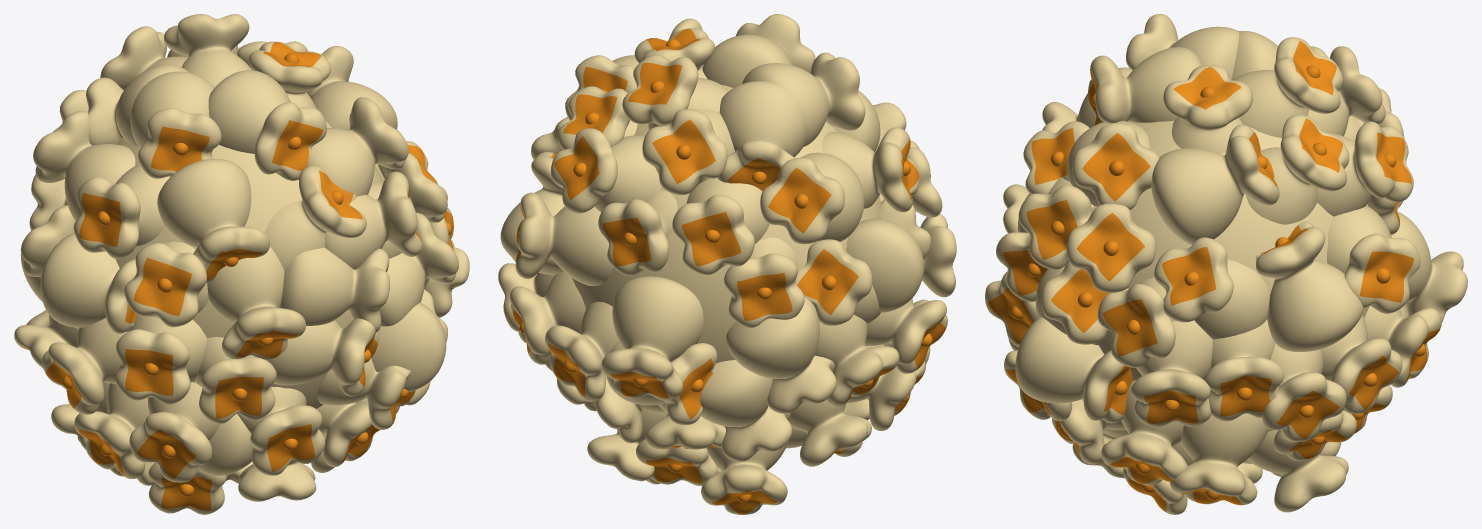
The model's file is popcorn_ball_meteor.glb.
3 views of the same model, side by side, from view 1: azimuth 30°, elevation 25°; view 2: azimuth 150°, elevation 25°; view 3: azimuth 270°, elevation 25° (orthographic). The views are drawn at different scales.
Parts seen in each view (by area): view 1: popcorn ball meteor_0; view 2: popcorn ball meteor_0; view 3: popcorn ball meteor_0.
Boxes of the visible parts, bbox=[...] form: popcorn ball meteor_0: bbox=[14, 14, 469, 514]; popcorn ball meteor_0: bbox=[498, 14, 956, 514]; popcorn ball meteor_0: bbox=[985, 14, 1467, 514].
Bounding box in the file's own units: 8.3 × 8.8 × 8.32.
